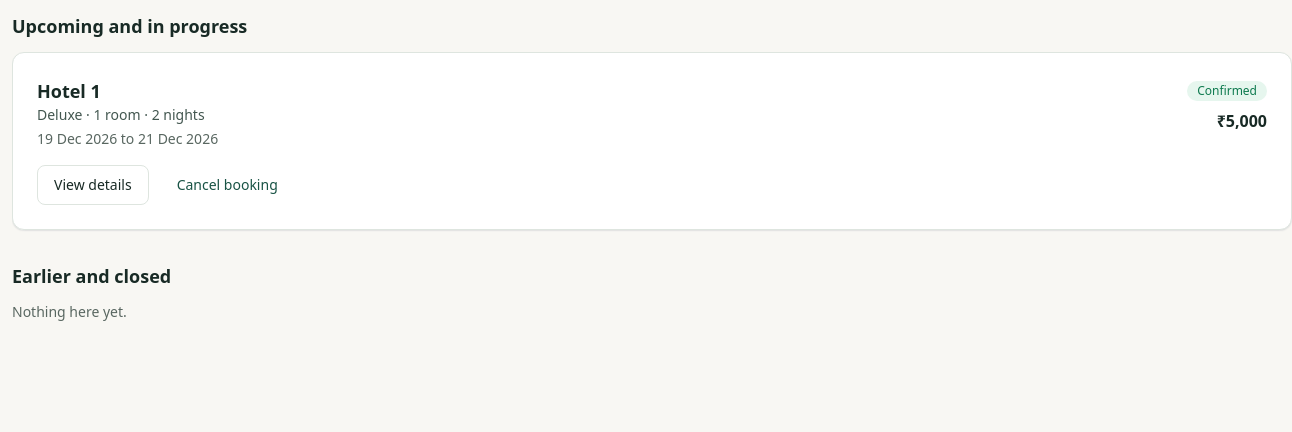
Test: my bookings › shows the server’s reason when the cancellation is refused
This screenshot has width=1292, height=432.
Click the button "Cancel booking" at (227, 185), box [161, 165, 294, 205]
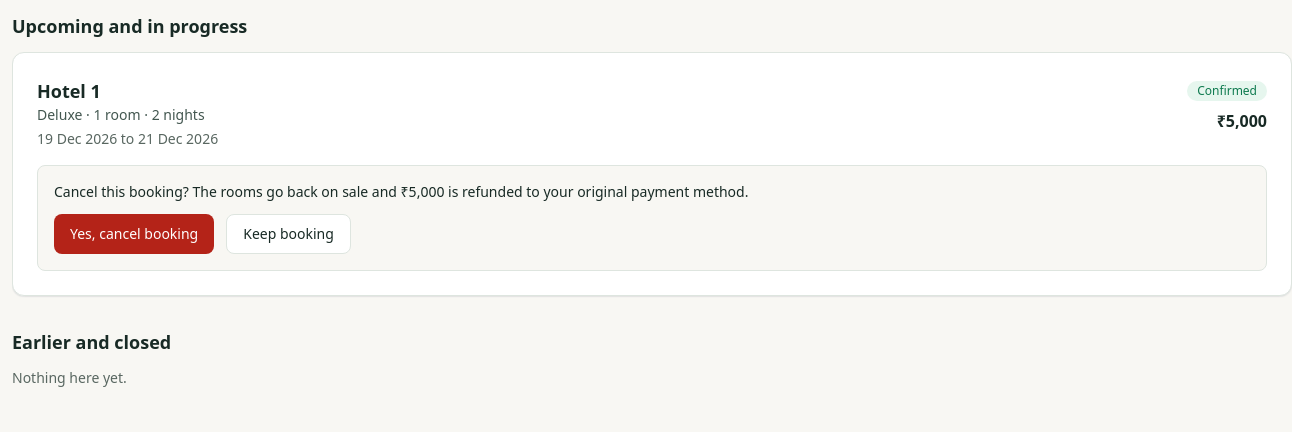
Click the button "Yes, cancel booking" at (134, 234), box [54, 214, 214, 254]
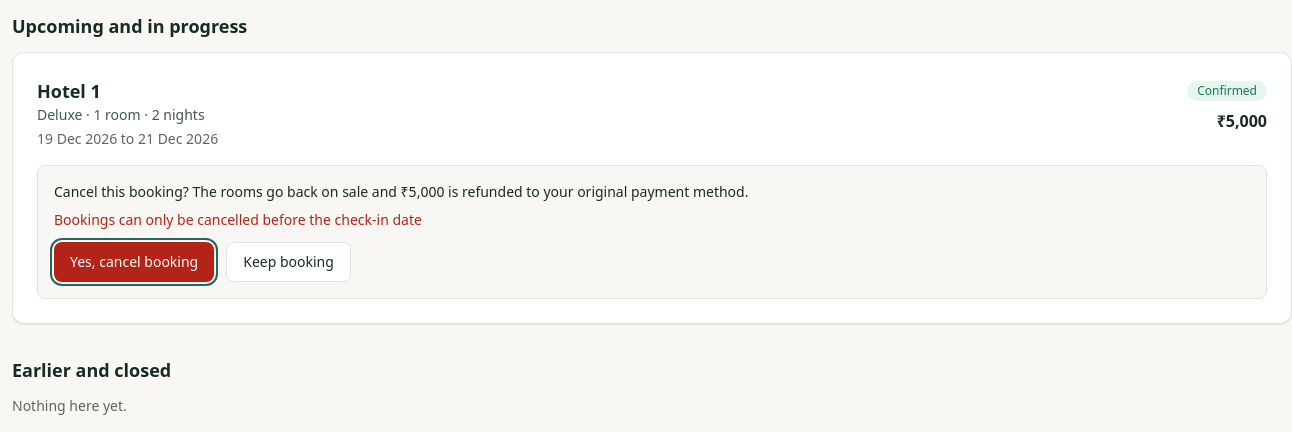
Expected: the button "Yes, cancel booking" is enabled, [54, 242, 214, 282]
Expected: the message reads "Bookings can only be cancelled before the check-in date", [54, 210, 422, 229]
